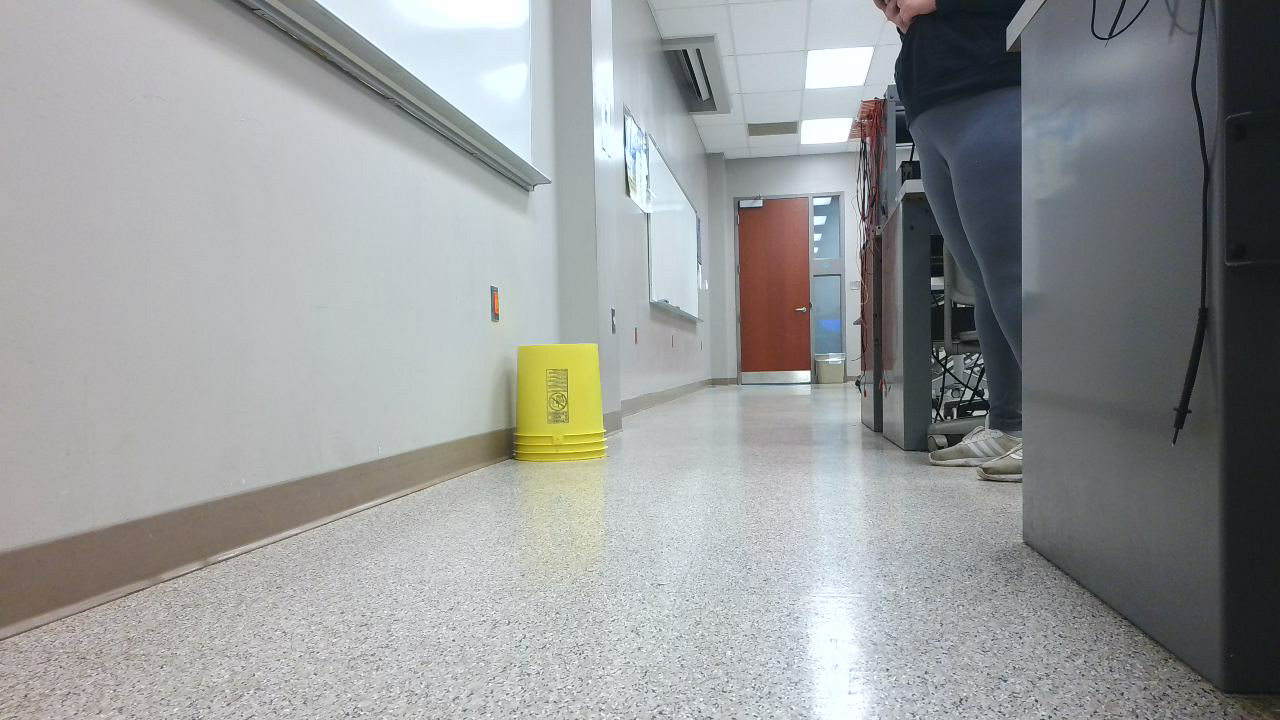yellow_bucket: (511, 344, 622, 475)
